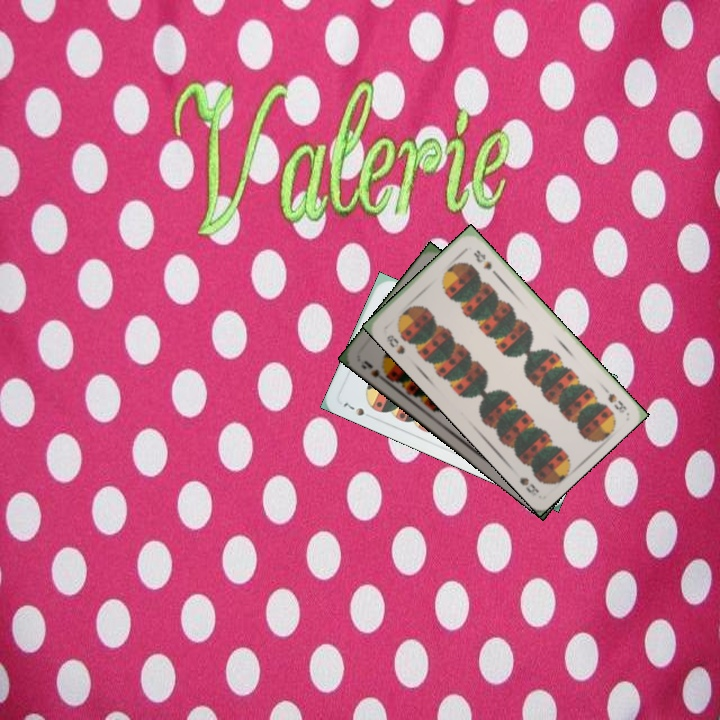S7: (339, 398, 367, 419)
S8: (597, 381, 629, 416), (382, 331, 407, 357)
S9: (357, 356, 392, 386)
